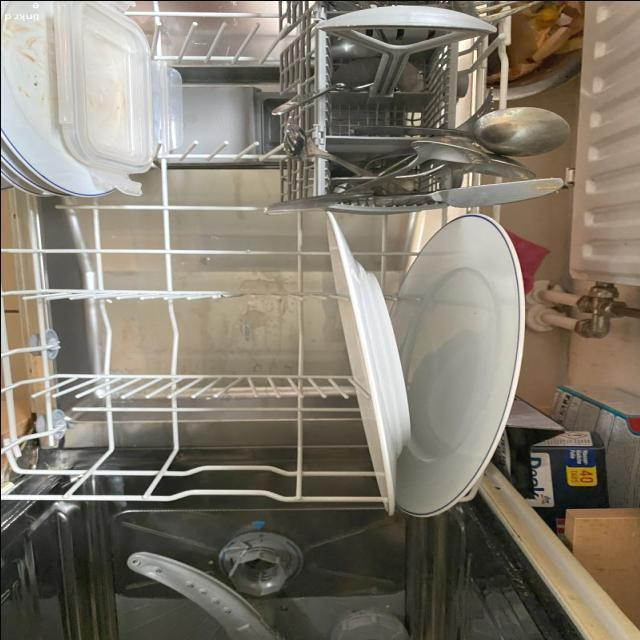clutery_bin: (279, 0, 512, 200)
empty_slot: (29, 210, 337, 489), (157, 8, 267, 182)
